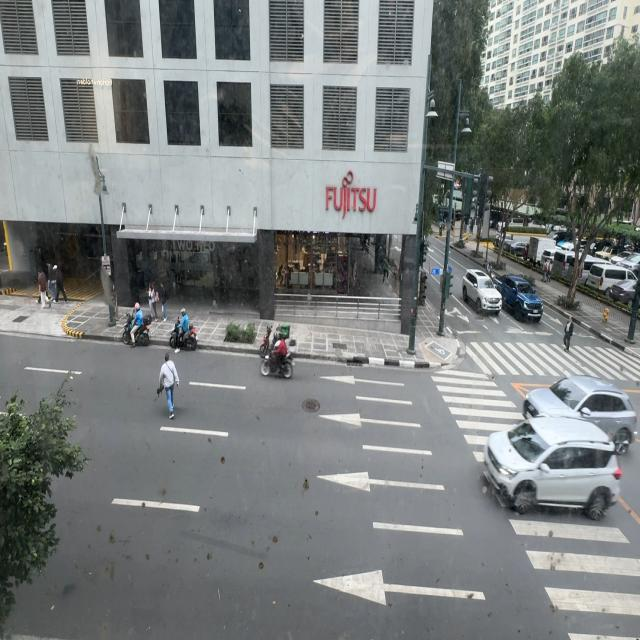crossing: (563, 316, 574, 353)
pedestrain: (52, 264, 68, 304), (38, 268, 51, 308), (148, 282, 158, 324), (110, 282, 118, 322), (160, 282, 168, 322), (543, 260, 548, 282)
waiting: (158, 352, 179, 419)
